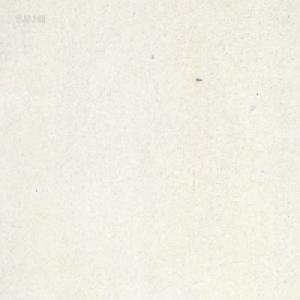Nail: (196, 77, 202, 81)
